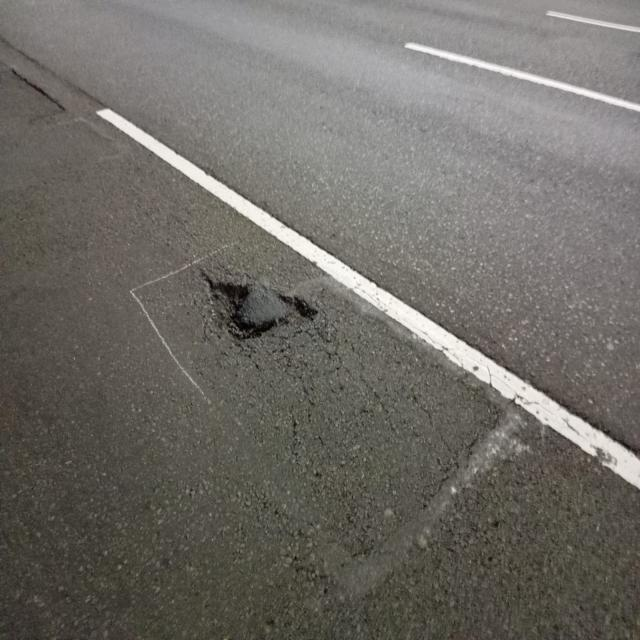Buraco: (192, 266, 324, 349)
